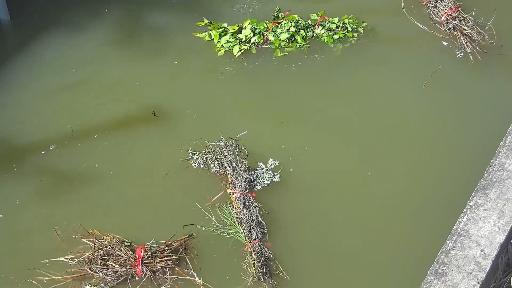twig: (185, 0, 374, 81), (51, 213, 228, 288), (192, 139, 282, 276), (380, 0, 501, 67)
